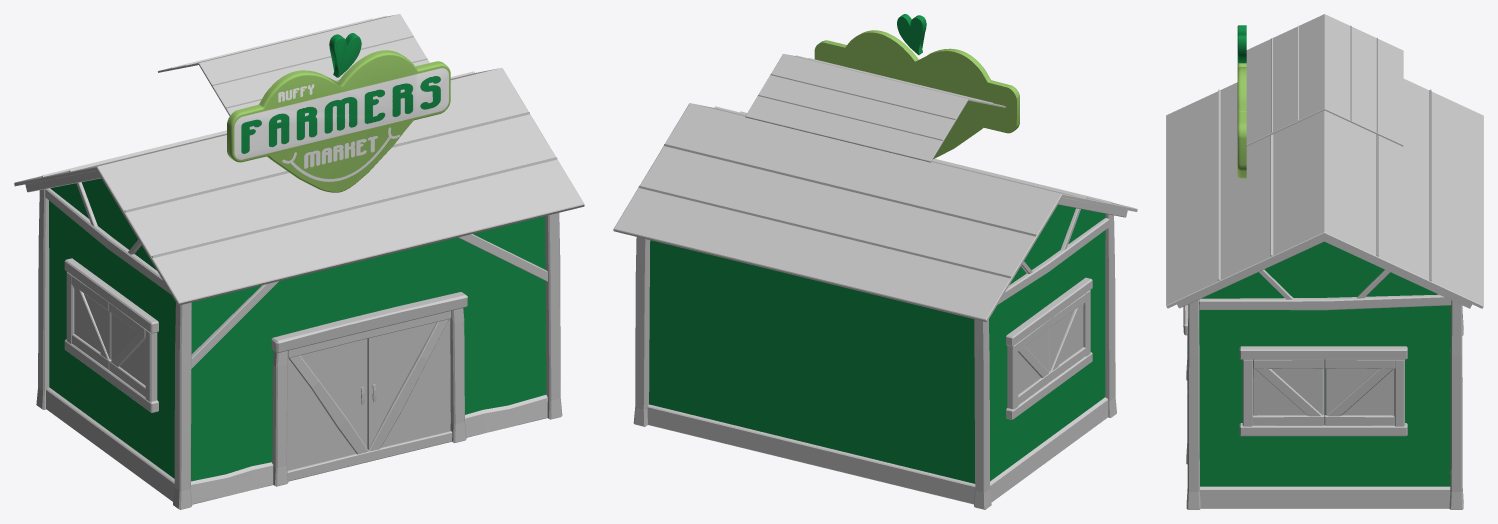
Rendered from FARM_SHOP.fbx.
3 renders of one model, left to right at view 1: azimuth 30°, elevation 25°; view 2: azimuth 150°, elevation 25°; view 3: azimuth 270°, elevation 25°, orthographic. The views are drawn at different scales.
Visible parts, largest first — view 1: Box2510, Curve.008; view 2: Box2510, Curve.008; view 3: Box2510, Curve.008.
Boxes of the visible parts, x1,y1,x2,y2 form: Box2510: (14,14,584,509); Curve.008: (227,33,450,192); Box2510: (613,54,1137,509); Curve.008: (814,14,1019,158); Box2510: (1166,14,1483,509); Curve.008: (1237,25,1246,178).
Size of the model in its own units: 7227 by 6936 by 5080.
